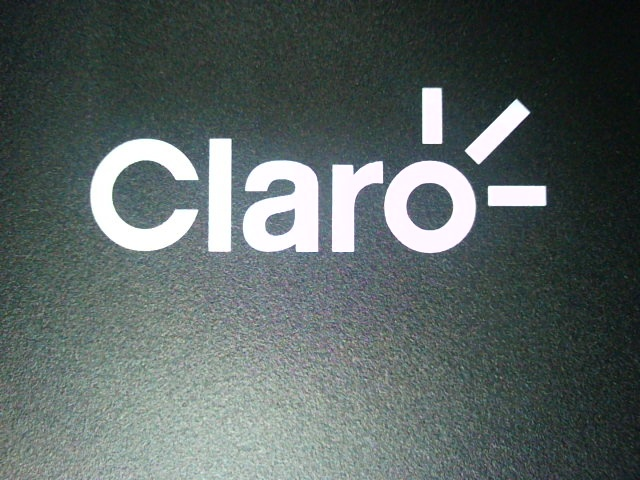BC_Claor: (67, 77, 549, 256)
